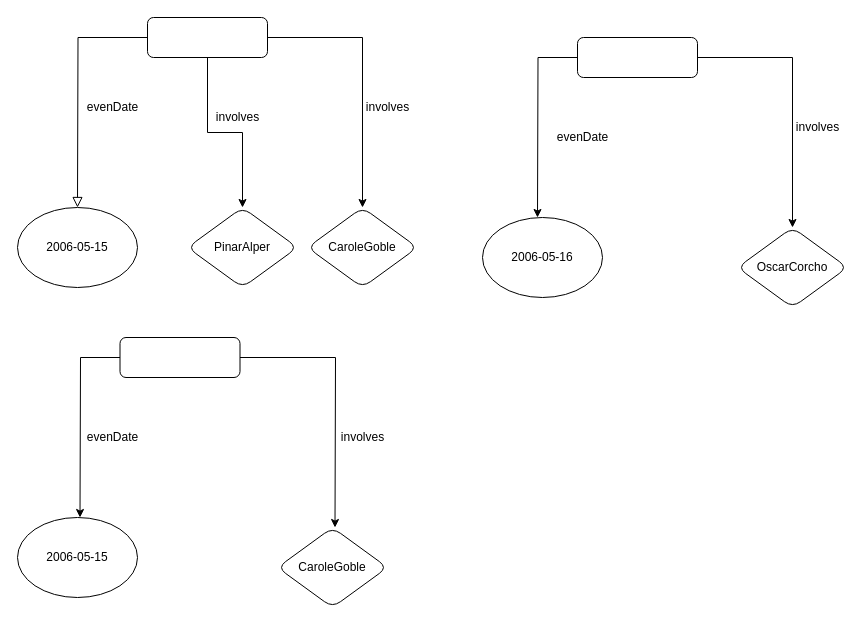
Some shapes in this 865 by 625 pixel diagram are drawn without their labels. Each missing label, with the centre of its shape:
event3: (207,37)
event4: (637,57)
event5: (179,357)
